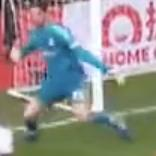goalkeeper: (6, 1, 142, 153)
